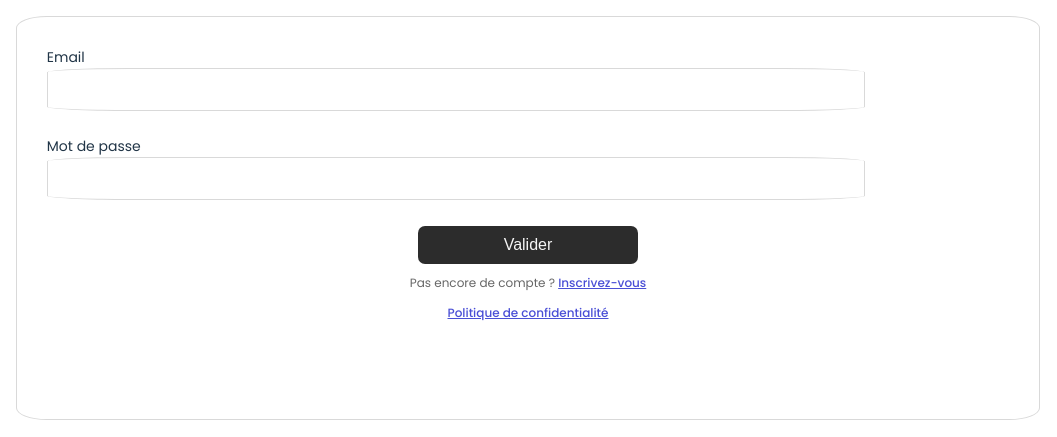
Test: LoginForm Validation › should display error when email is empty
Type "password123" into the password field labelled "Mot de passe". click: coordinates (456, 179)
box: [47,157,865,200]
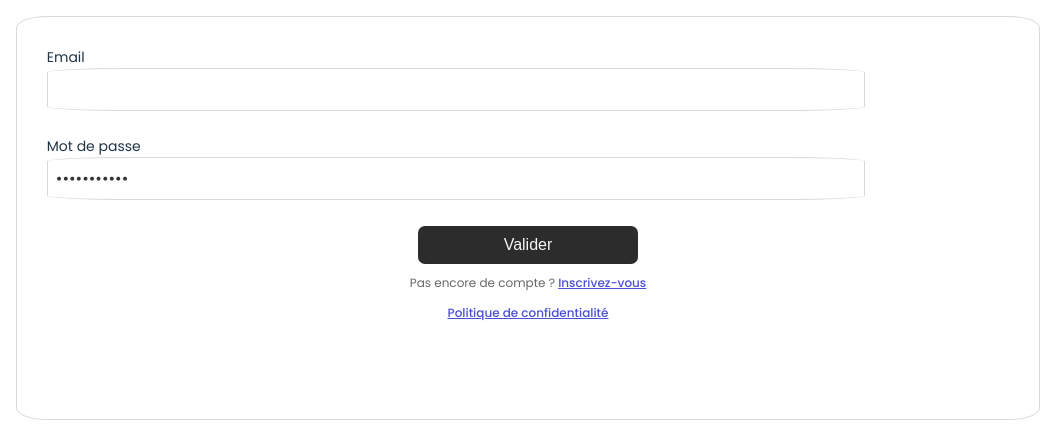
Click the button "Valider". click: coordinates (528, 244)
box: [418,226,638,264]
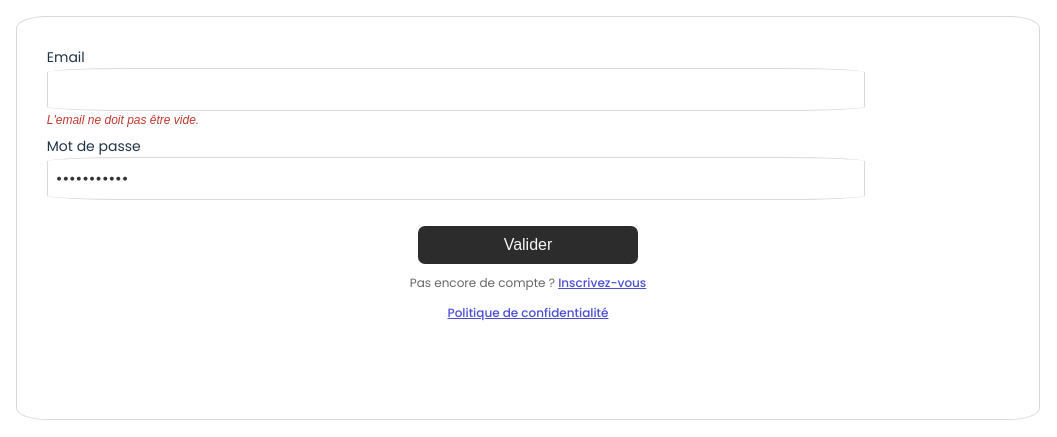
Check: the text "L'email ne doit pas être vide." is shown, box [47,113,199,127]
